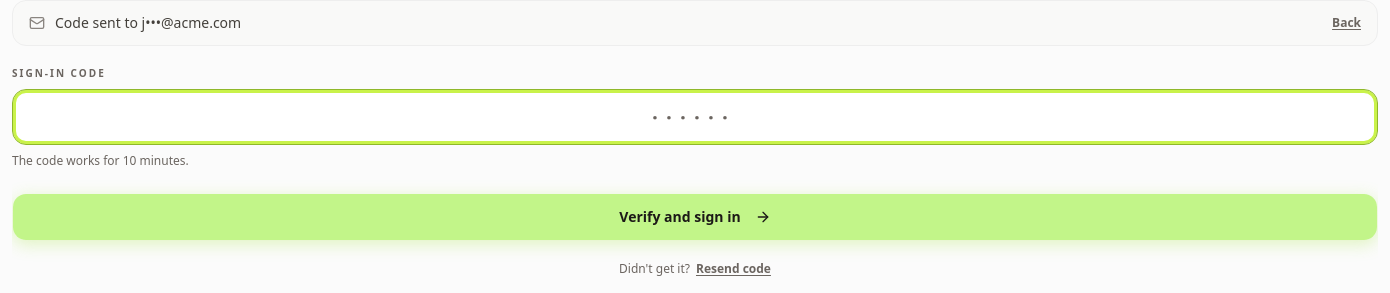
Test: CodeStep › lets only digits into the box
Type "12ab3 -4x56" into the field labelled "Sign-in code" at coordinates (695, 117), box [12,89,1378,145]
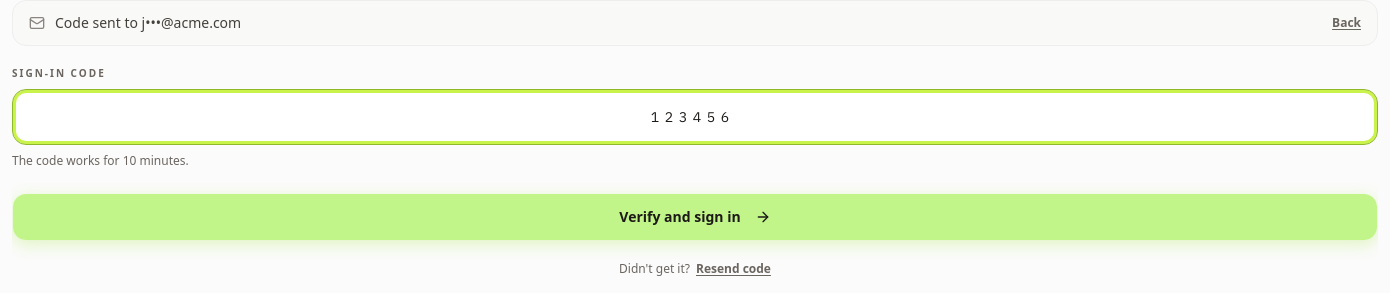
Result: the field labelled "Sign-in code" holds "123456" at [12,89,1378,145]
